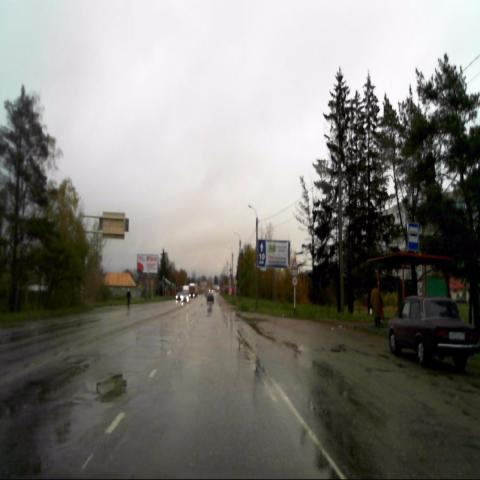5_16: (408, 221, 419, 250)
